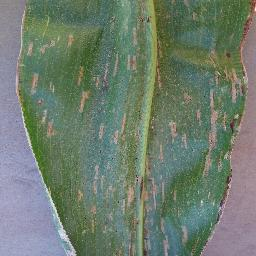Gray_Leaf_Spot: (8, 96, 33, 196), (209, 166, 234, 241), (201, 90, 224, 171), (12, 0, 30, 97), (207, 17, 223, 93), (116, 216, 145, 256), (227, 110, 246, 167), (53, 200, 73, 254), (239, 1, 256, 63), (227, 66, 248, 104), (131, 4, 150, 44), (168, 118, 187, 151), (42, 105, 58, 139), (153, 31, 162, 89), (122, 181, 137, 215), (115, 111, 130, 145), (93, 59, 109, 90), (144, 164, 158, 199), (160, 209, 169, 255), (92, 164, 107, 190), (182, 82, 194, 112), (128, 53, 140, 73), (92, 200, 98, 239), (191, 241, 209, 254), (34, 71, 43, 94), (76, 183, 84, 207), (42, 38, 56, 51), (77, 66, 87, 84), (81, 91, 88, 114), (66, 32, 76, 48), (182, 221, 189, 242), (162, 177, 166, 201), (99, 122, 105, 137), (160, 143, 163, 165), (115, 54, 117, 79), (174, 183, 176, 205)
